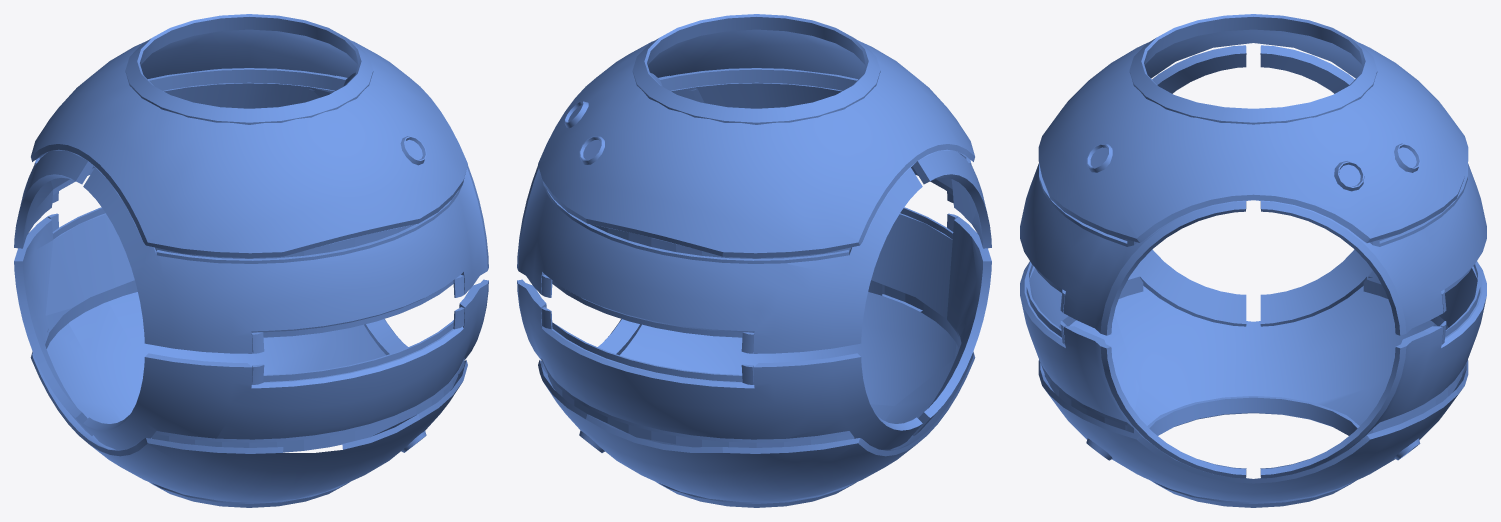
File: chassis.obj
The picture shows the model from 3 angles, left to right: view 1: azimuth 30°, elevation 25°; view 2: azimuth 150°, elevation 25°; view 3: azimuth 270°, elevation 25°; orthographic projection.
Visible parts, largest first — view 1: personality_sphere_model; view 2: personality_sphere_model; view 3: personality_sphere_model.
Part boxes in pixels (<box>): personality_sphere_model: <box>14,14,488,507</box>; personality_sphere_model: <box>517,14,991,507</box>; personality_sphere_model: <box>1020,14,1486,507</box>.
Size of the model in its own units: 26.31 by 29.85 by 31.63.
